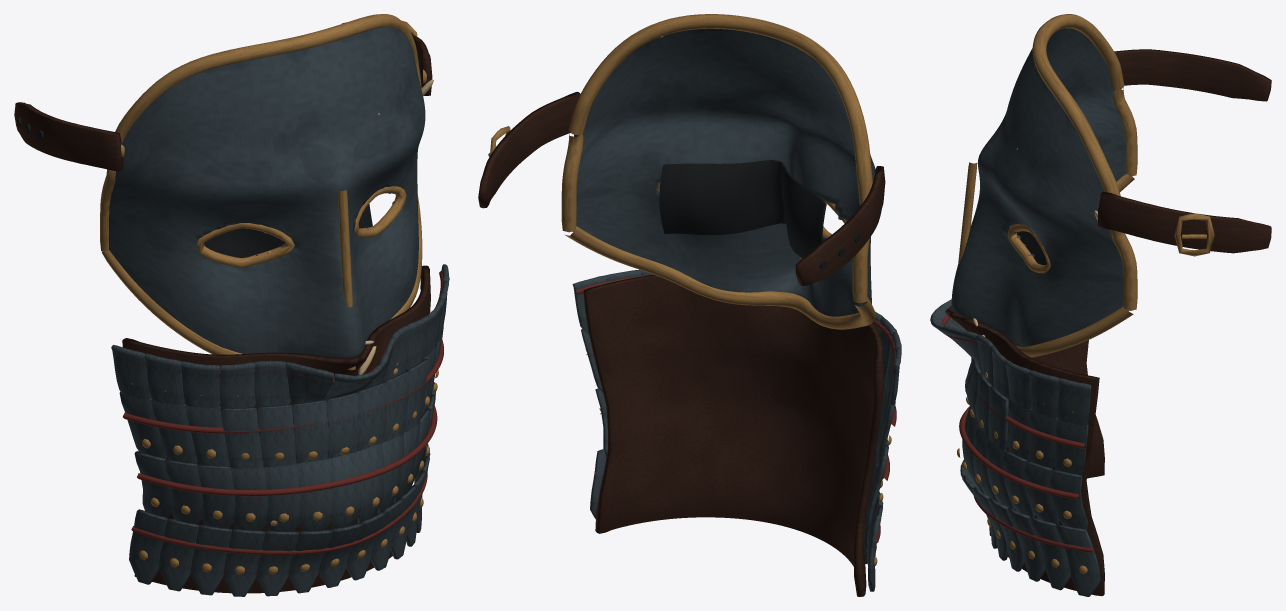
3 views of the same model, side by side, from view 1: azimuth 30°, elevation 25°; view 2: azimuth 150°, elevation 25°; view 3: azimuth 270°, elevation 25° (orthographic). The views are drawn at different scales.
Parts seen in each view (by area): view 1: blackened lamellar plate, aged alloy edge, oiled strap leather, woven wool, recess and lining; view 2: oiled strap leather, blackened lamellar plate, aged alloy edge, recess and lining, woven wool; view 3: blackened lamellar plate, oiled strap leather, aged alloy edge, woven wool.
Boxes of the visible parts, x1=… form: blackened lamellar plate: x1=109, y1=27, x2=449, y2=596; aged alloy edge: x1=100, y1=14, x2=442, y2=574; oiled strap leather: x1=14, y1=22, x2=432, y2=593; woven wool: x1=123, y1=270, x2=443, y2=554; recess and lining: x1=17, y1=117, x2=372, y2=257; oiled strap leather: x1=478, y1=92, x2=885, y2=596; blackened lamellar plate: x1=572, y1=28, x2=901, y2=591; aged alloy edge: x1=488, y1=14, x2=891, y2=566; recess and lining: x1=659, y1=160, x2=860, y2=269; woven wool: x1=576, y1=274, x2=896, y2=542; blackened lamellar plate: x1=930, y1=28, x2=1126, y2=596; oiled strap leather: x1=945, y1=49, x2=1271, y2=596; aged alloy edge: x1=952, y1=14, x2=1214, y2=574; woven wool: x1=941, y1=314, x2=1092, y2=552.
Size of the model in its own units: 0.1781 by 0.2428 by 0.153.
Materials: 7 (4 with a texture image).
